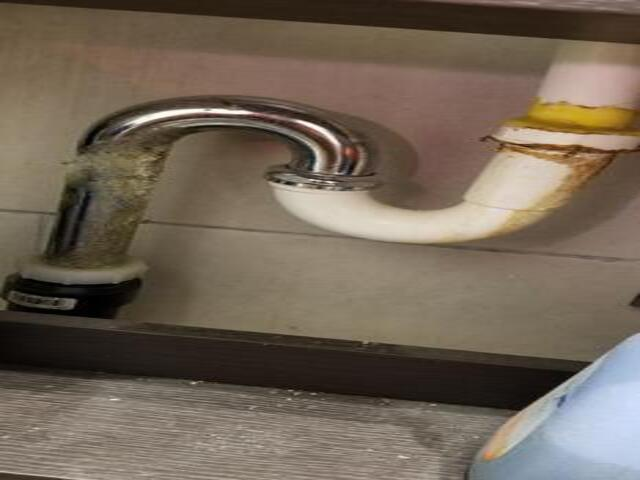Low: (54, 133, 165, 266), (494, 116, 622, 206)
